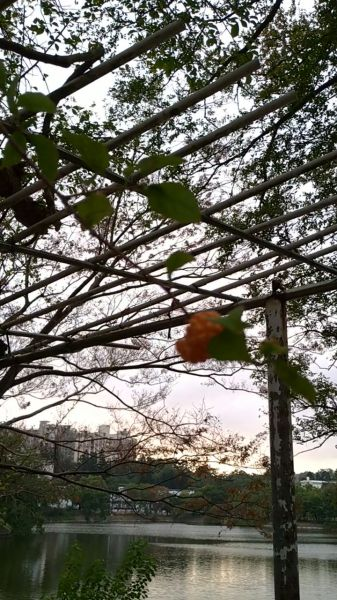eggs: (167, 305, 232, 365)
